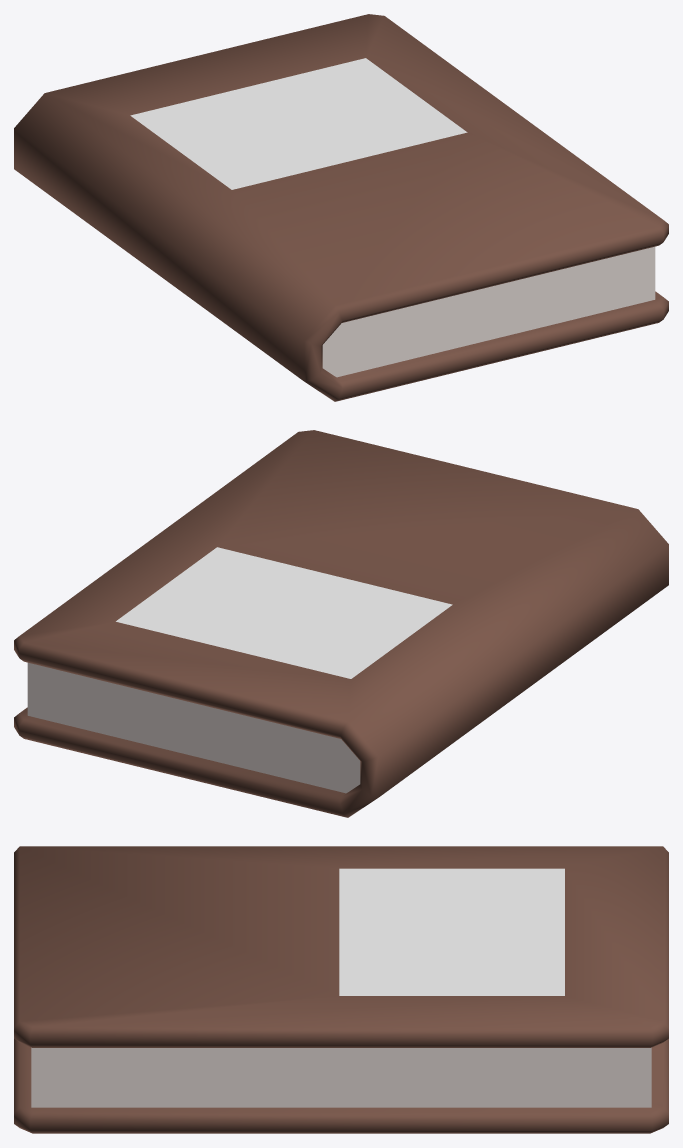
Rendered from prop_040.fbx.
3 views of the same model, one above another, from view 1: azimuth 30°, elevation 25°; view 2: azimuth 150°, elevation 25°; view 3: azimuth 270°, elevation 25° (orthographic). The views are drawn at different scales.
Parts seen in each view (by area): view 1: prop_040; view 2: prop_040; view 3: prop_040.
Boxes of the visible parts, box(x1,y1,x2,y2) form: prop_040: box(14, 14, 668, 401); prop_040: box(14, 430, 668, 817); prop_040: box(14, 846, 668, 1133).
Size of the model in its own units: 30.1 by 41.72 by 7.49.
